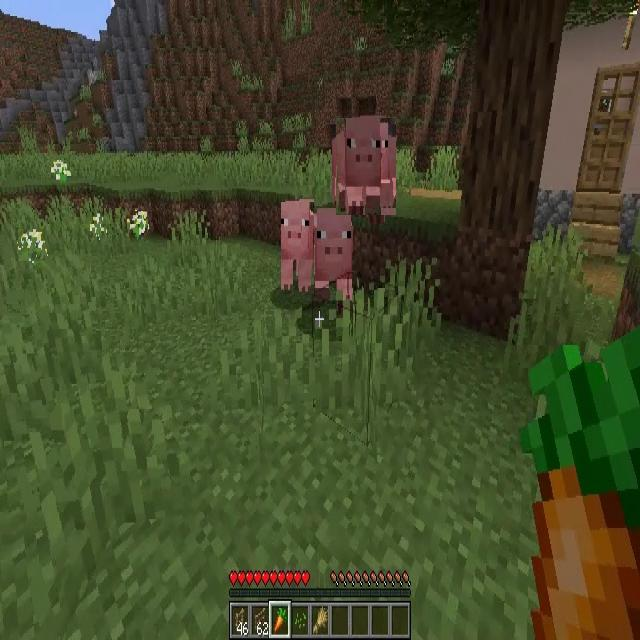flower: (18, 230, 45, 262), (130, 211, 148, 243), (51, 159, 70, 184), (90, 215, 104, 242)
pig: (336, 118, 396, 215), (309, 210, 352, 310), (281, 202, 314, 294)
